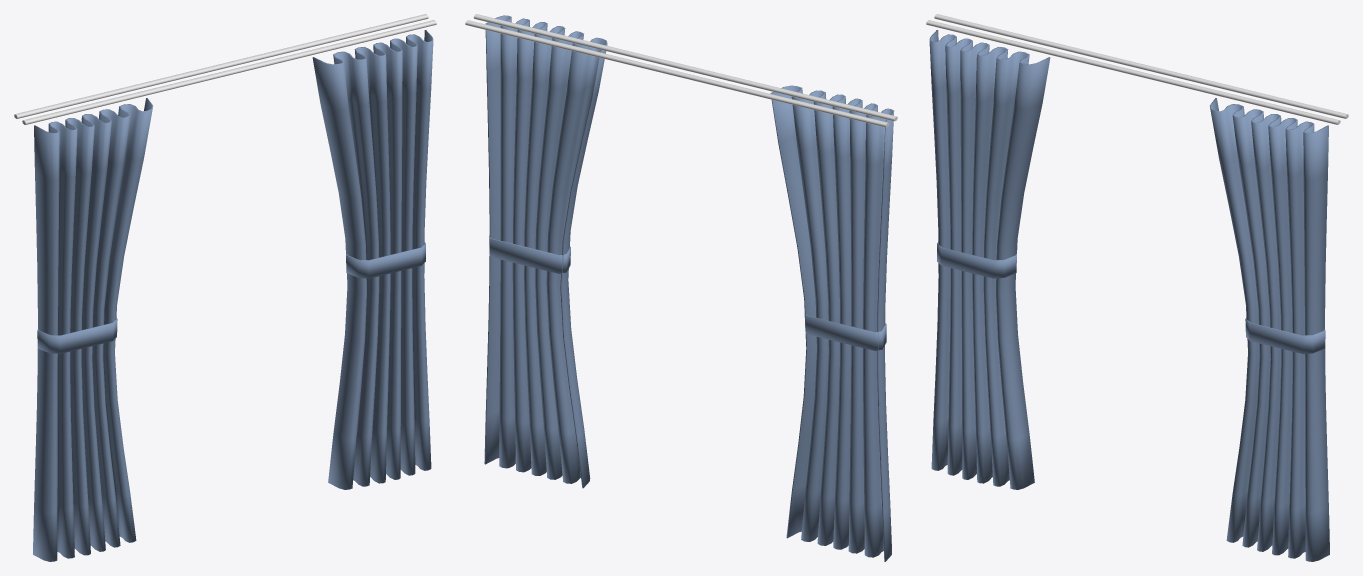
Rendered from curtain.glb.
3 views of the same model, side by side, from view 1: azimuth 30°, elevation 25°; view 2: azimuth 150°, elevation 25°; view 3: azimuth 330°, elevation 25° (orthographic). The views are drawn at different scales.
Parts seen in each view (by area): view 1: Grid.006 (×2), Cube.001, Cube.002 (×2); view 2: Grid.006 (×2), Cube.001, Cube.002 (×2); view 3: Grid.006 (×2), Cube.001, Cube.002 (×2).
Boxes of the visible parts, x1,y1,x2,y2 form: Grid.006 (×2): [33, 30, 433, 561]; Cube.001: [14, 14, 436, 124]; Cube.002 (×2): [37, 242, 425, 353]; Grid.006 (×2): [484, 15, 894, 561]; Cube.001: [465, 14, 897, 127]; Cube.002 (×2): [489, 235, 886, 350]; Grid.006 (×2): [929, 30, 1329, 561]; Cube.001: [926, 14, 1348, 124]; Cube.002 (×2): [937, 242, 1325, 353].
Bounding box in the file's own units: 1.8 × 1.83 × 0.1995.
